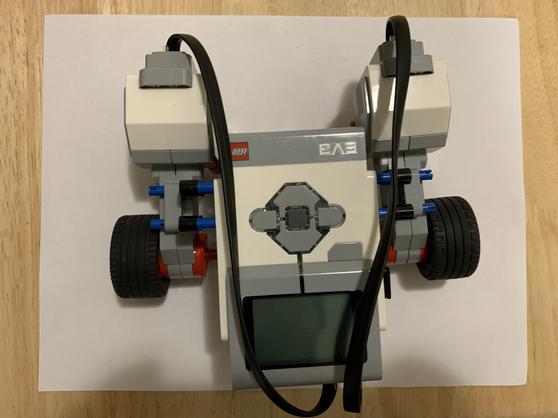robot: (68, 10, 498, 418)
